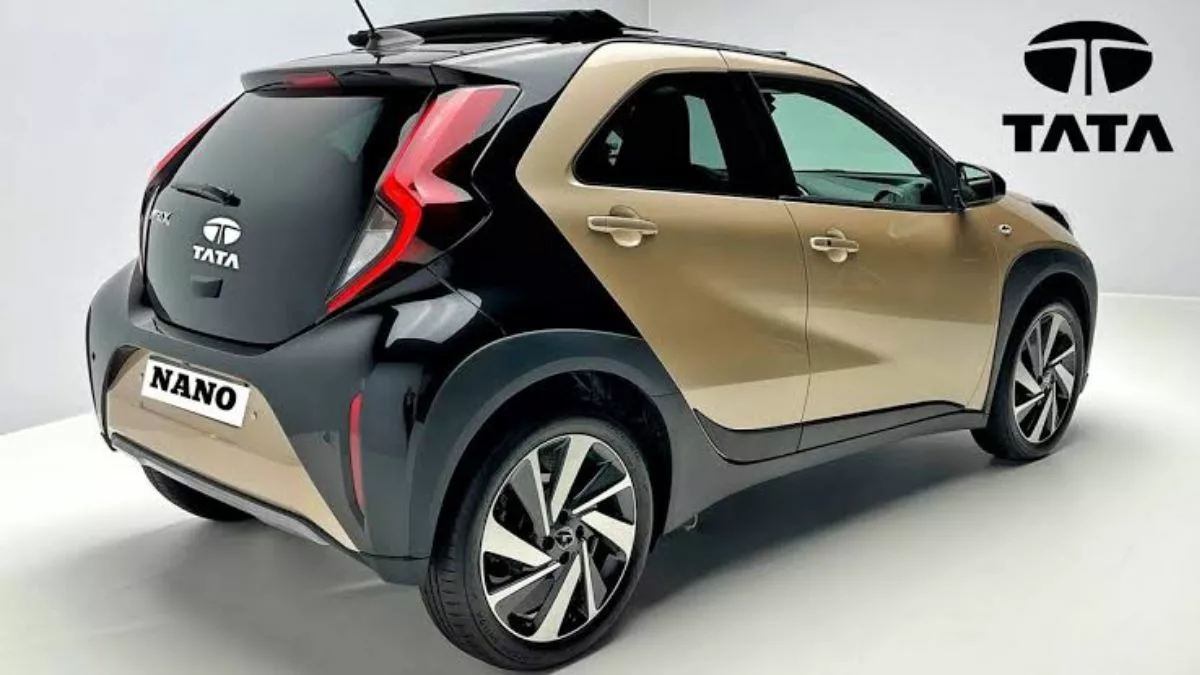Nano: (83, 4, 1101, 675)
